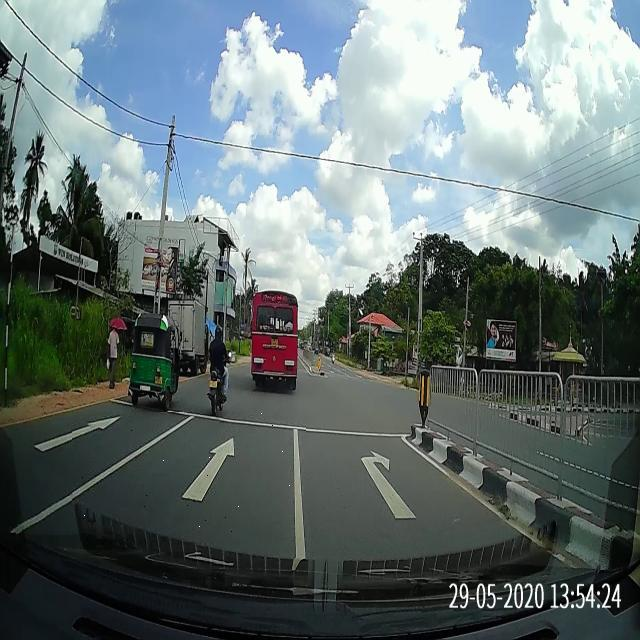forward: (72, 413, 306, 544)
